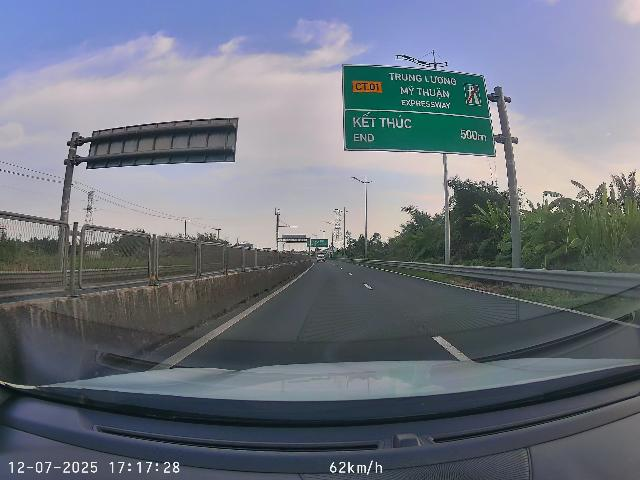438-ket-thuc-duong-cao-toc: (463, 83, 482, 106)
